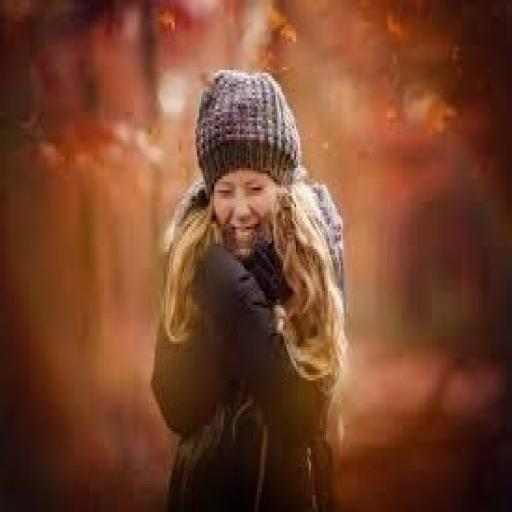laughing: (145, 62, 356, 506)
